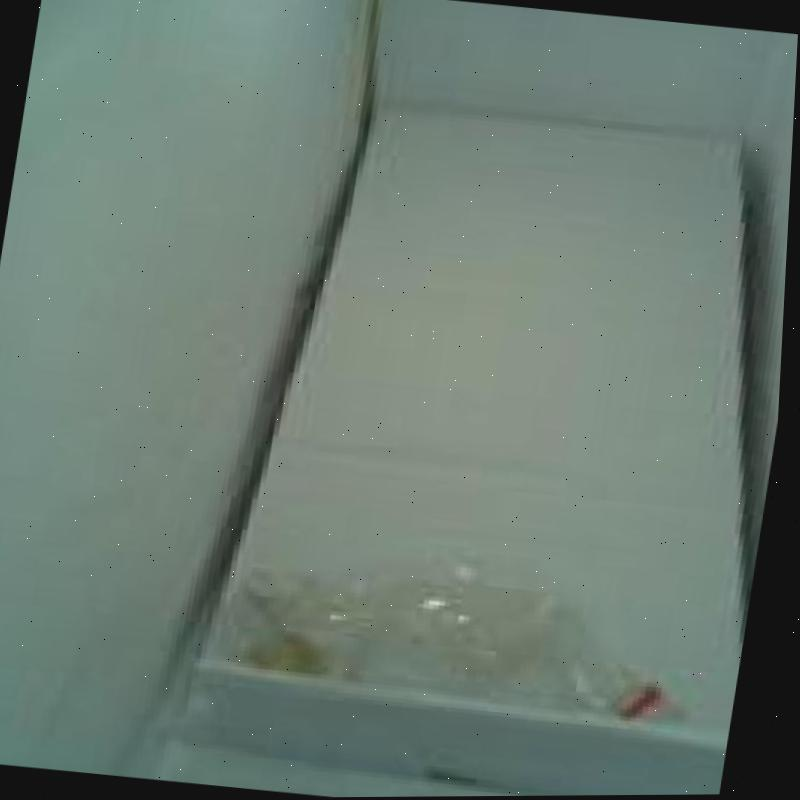botella: (219, 538, 699, 737)
